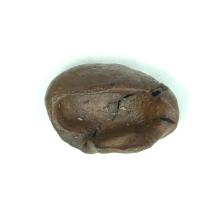NG: (52, 88, 175, 151)
